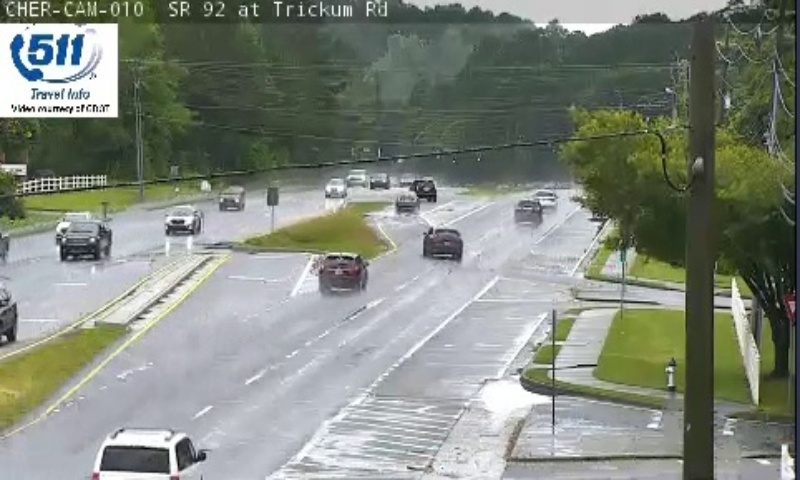car: (92, 429, 205, 480), (318, 252, 363, 288), (428, 227, 463, 256), (514, 198, 544, 223)
